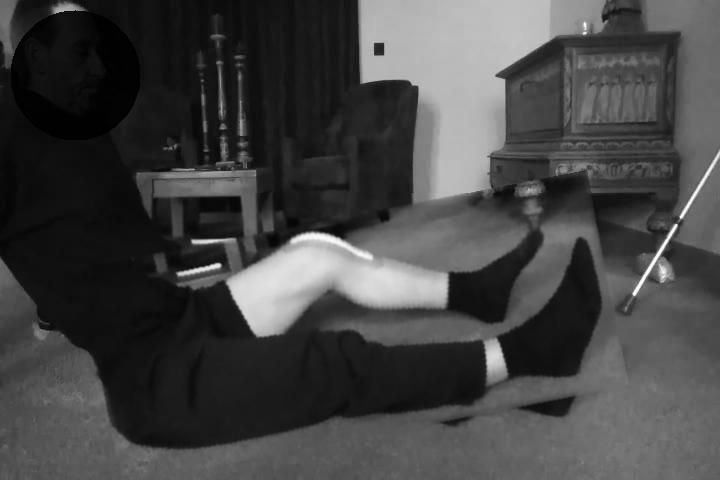lower_body: (91, 194, 623, 462)
